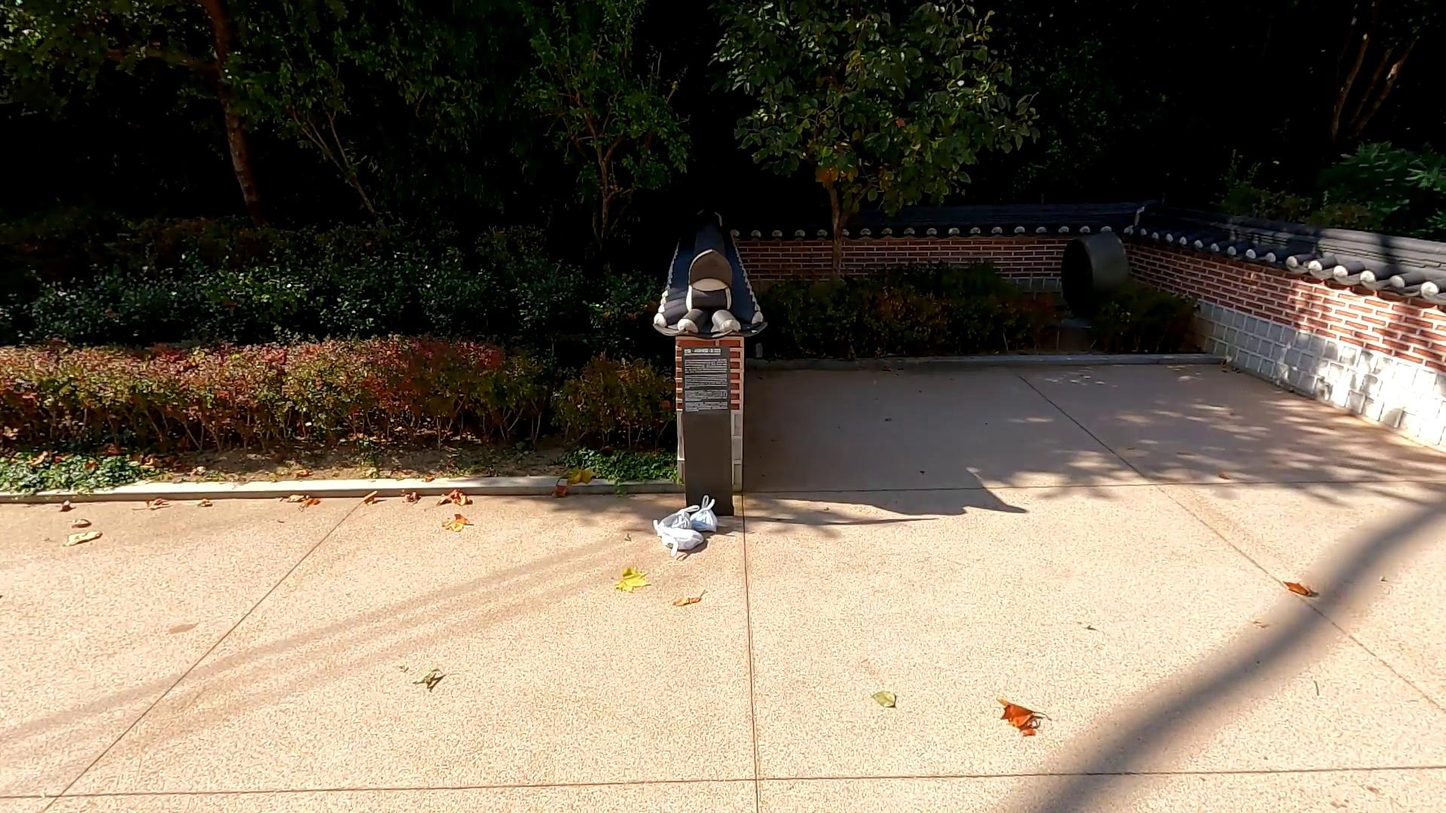trash: (649, 524, 707, 552), (656, 504, 701, 538), (689, 496, 722, 534)
